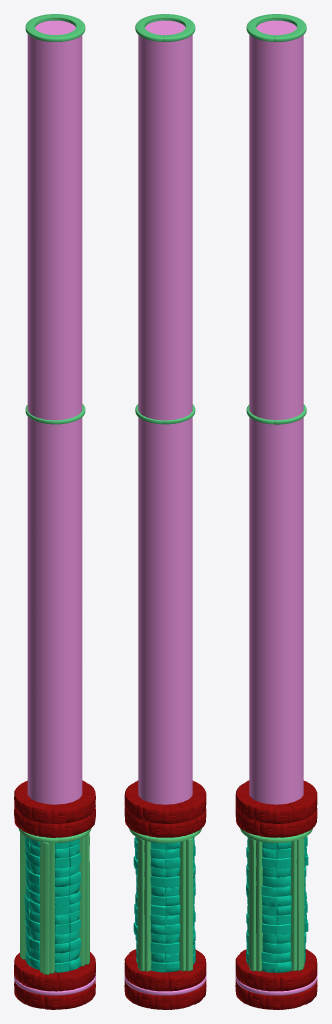
Rendered from big_column01.fbx.
3 renders of one model, left to right at view 1: azimuth 90°, elevation 25°; view 2: azimuth 150°, elevation 25°; view 3: azimuth 330°, elevation 25°, orthographic.
Visible parts, largest first — view 1: big_column; view 2: big_column; view 3: big_column.
Boxes of the visible parts, x1,y1,x2,y2 form: big_column: (14, 14, 95, 1009); big_column: (124, 14, 206, 1009); big_column: (235, 14, 317, 1009).
Bounding box in the file's own units: 2.54 × 33 × 2.53.
